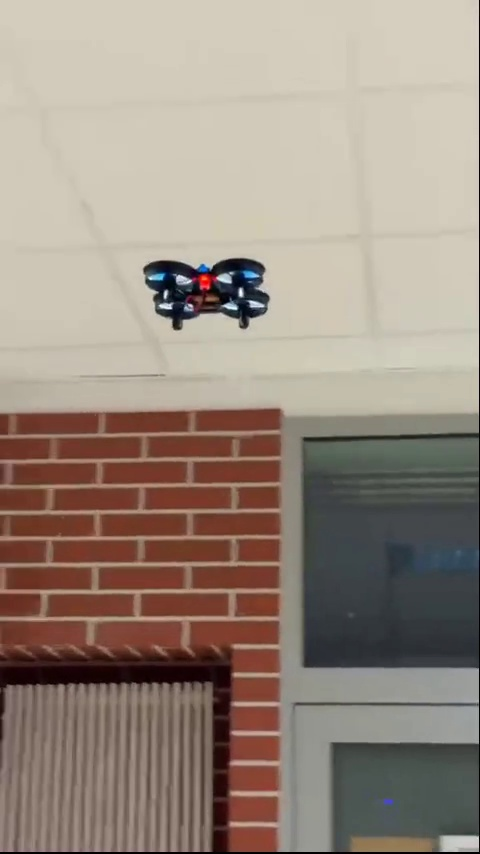drone: (144, 262, 273, 323)
